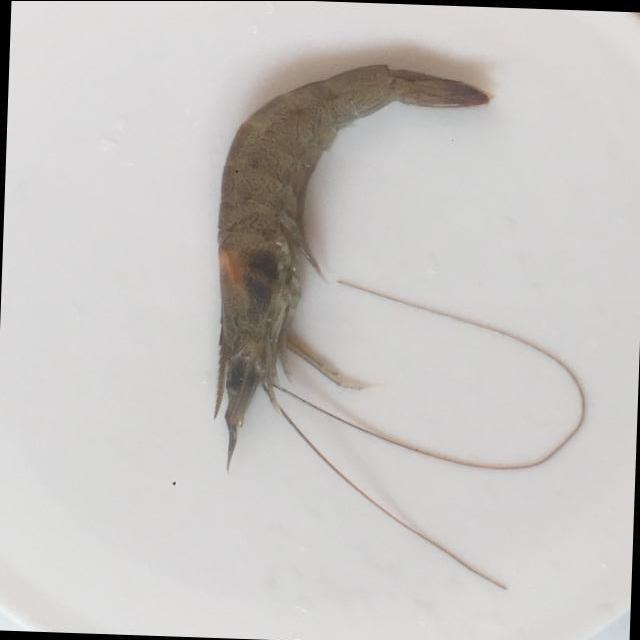shrimp: (214, 63, 489, 461)
